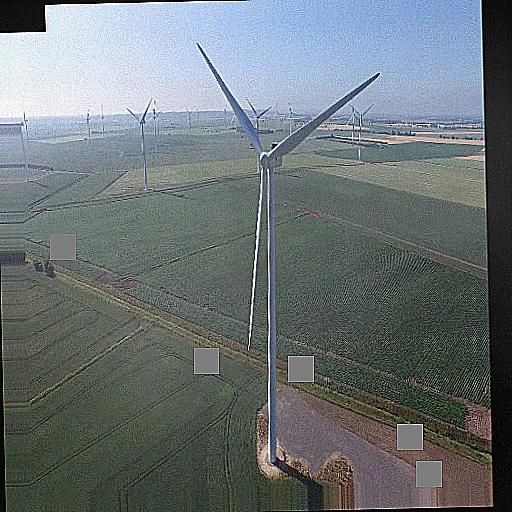wind turbine: (196, 41, 382, 448), (126, 95, 156, 191), (349, 102, 374, 161)
